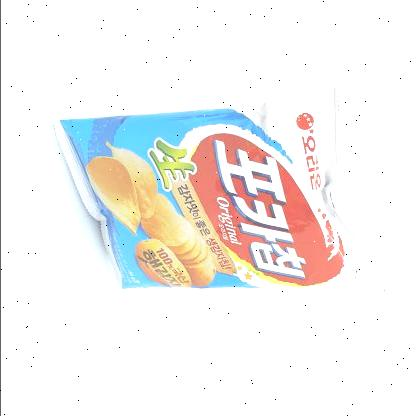Others: (44, 74, 394, 320)
